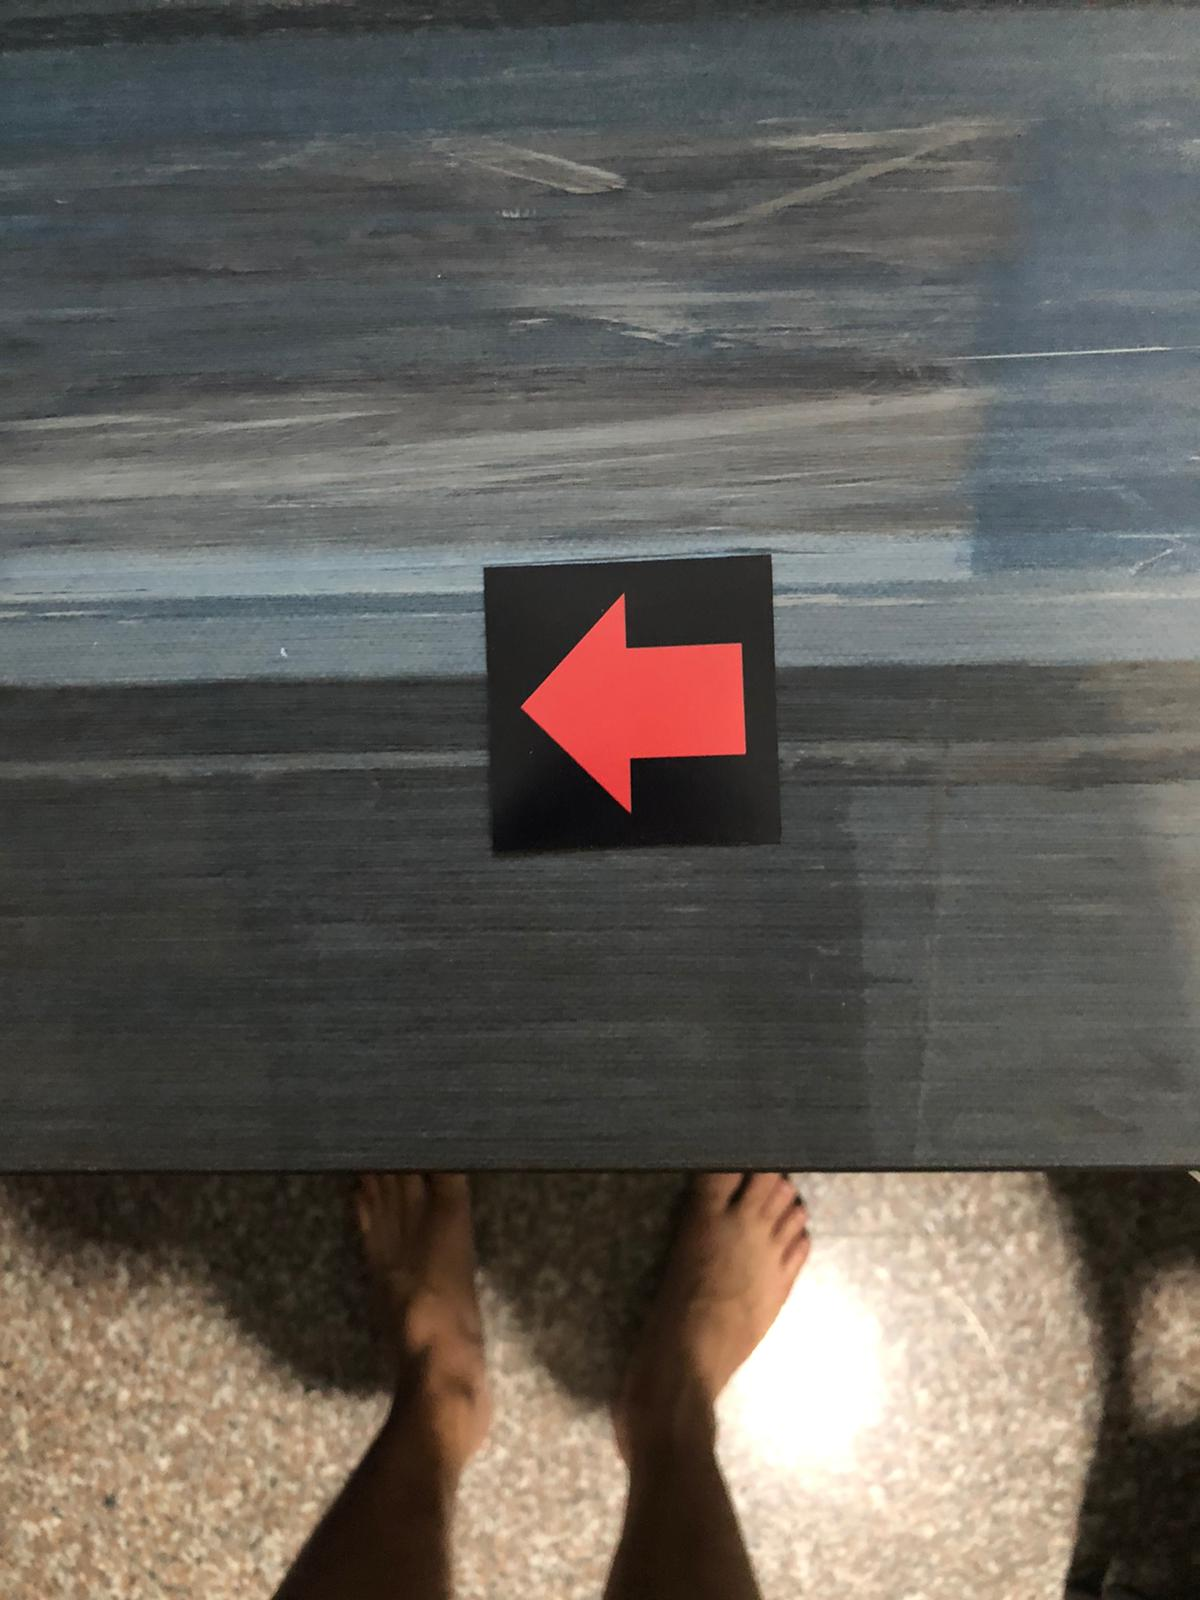Left Arrow: (494, 581, 784, 847)
